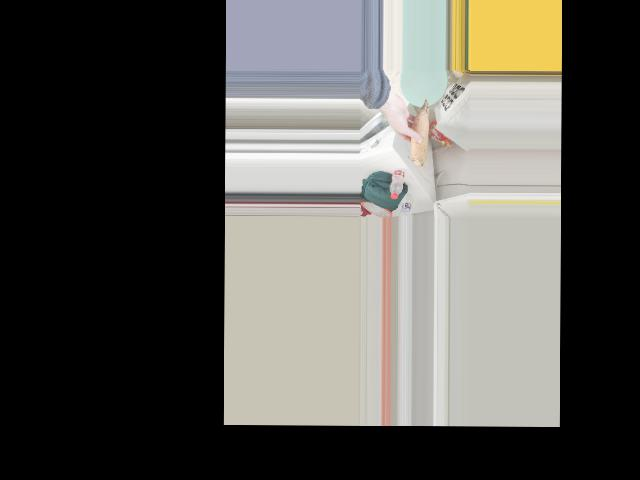sweet_potato: (405, 98, 433, 170)
